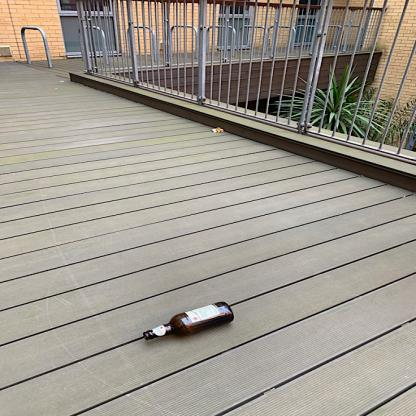trash: (140, 300, 239, 346)
